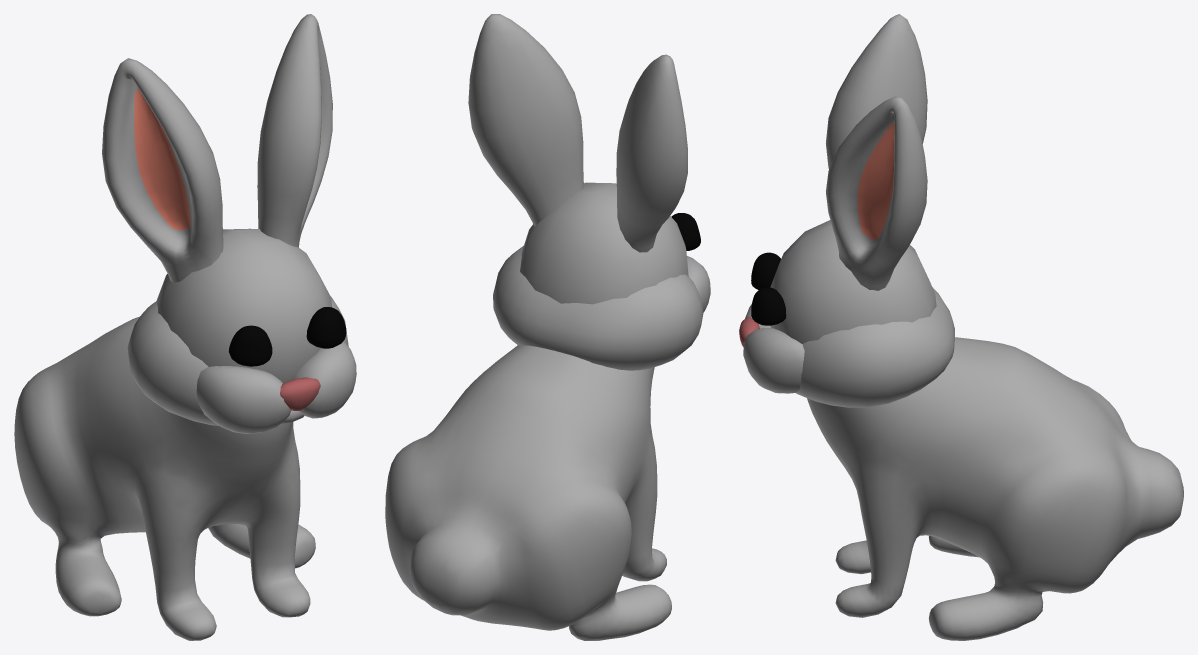
File: Bunny.obj
The picture shows the model from 3 angles, left to right: view 1: azimuth 30°, elevation 25°; view 2: azimuth 150°, elevation 25°; view 3: azimuth 270°, elevation 25°; orthographic projection. The views are drawn at different scales.
Parts seen in each view (by area): view 1: Bunny_Cube.001, Eyes_Bunny_Cube.002; view 2: Bunny_Cube.001, Eyes_Bunny_Cube.002; view 3: Bunny_Cube.001, Eyes_Bunny_Cube.002.
Part boxes in pixels (x1,y1,x2,y2): Bunny_Cube.001: [14, 14, 356, 640]; Eyes_Bunny_Cube.002: [228, 307, 346, 366]; Bunny_Cube.001: [385, 14, 710, 640]; Eyes_Bunny_Cube.002: [671, 213, 700, 250]; Bunny_Cube.001: [739, 14, 1183, 640]; Eyes_Bunny_Cube.002: [751, 252, 786, 325].
Bounding box in the file's own units: 2.3 × 5.17 × 3.88.
